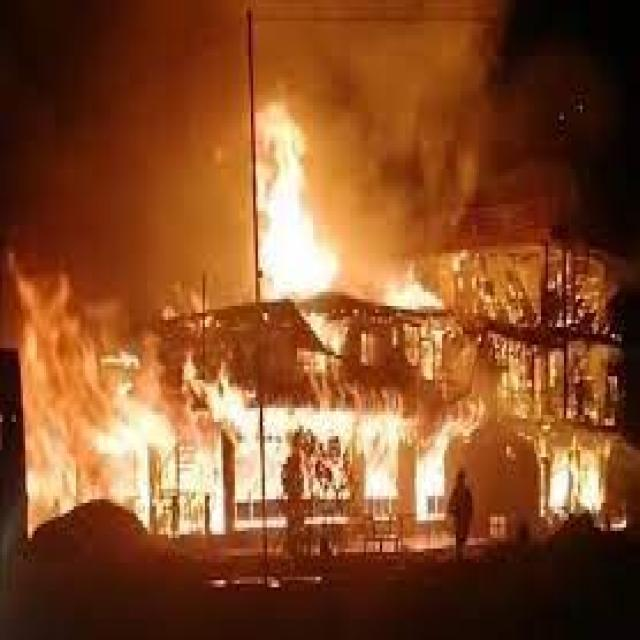Fire: (32, 270, 158, 504), (258, 96, 352, 302), (400, 266, 435, 314)
Smoke: (6, 4, 248, 294), (283, 16, 544, 221)
